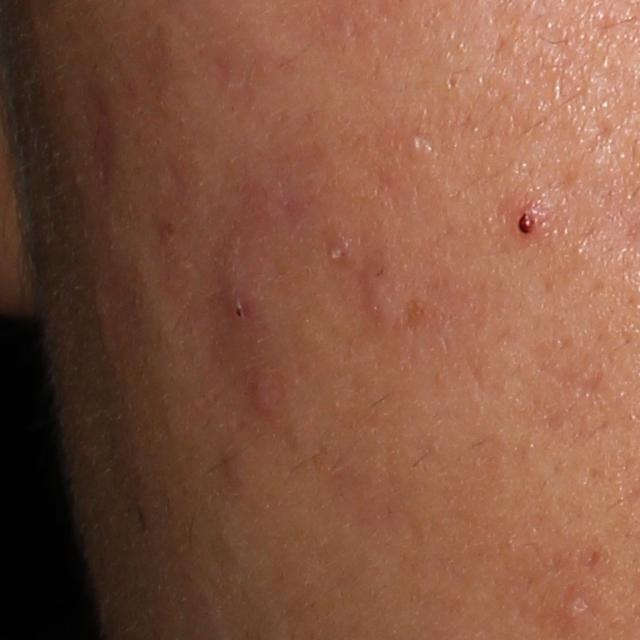atrophic_scar: (79, 65, 120, 196)
comedo: (407, 135, 429, 159)
papule: (222, 260, 263, 337), (505, 195, 558, 251), (241, 369, 284, 420), (560, 592, 591, 628)
